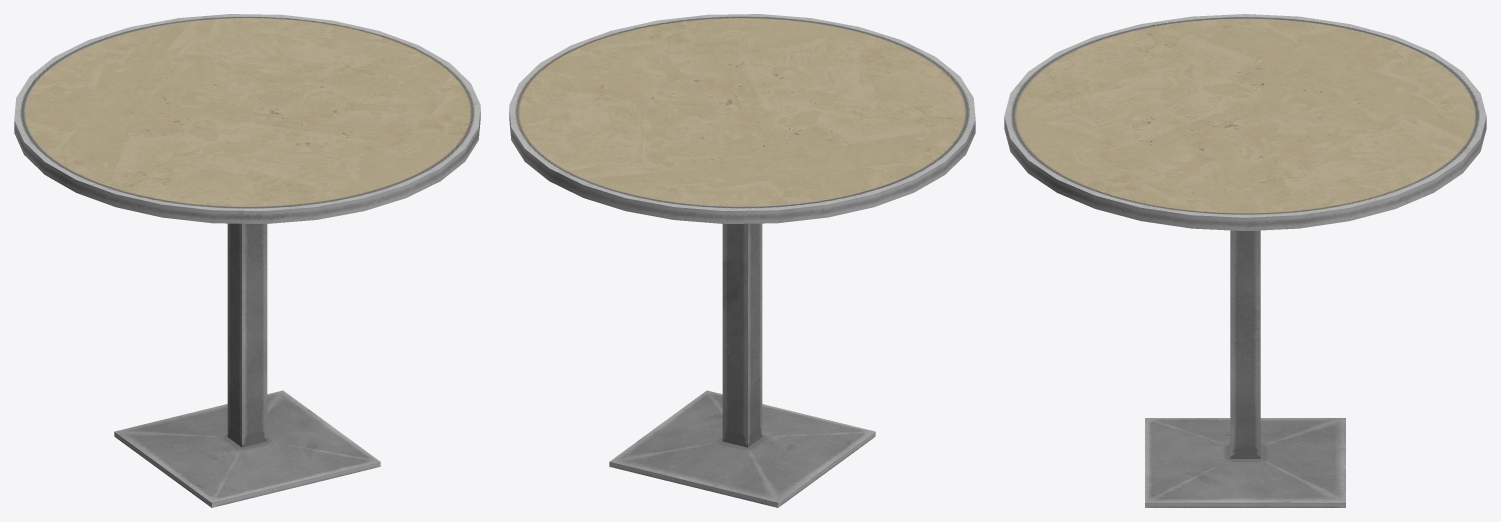
The model's file is MB_Cafe_Table_05.fbx.
3 views of the same model, side by side, from view 1: azimuth 30°, elevation 25°; view 2: azimuth 150°, elevation 25°; view 3: azimuth 270°, elevation 25° (orthographic). The views are drawn at different scales.
Parts seen in each view (by area): view 1: MB_Cafe_Table_05; view 2: MB_Cafe_Table_05; view 3: MB_Cafe_Table_05.
Boxes of the visible parts, x1,y1,x2,y2 form: MB_Cafe_Table_05: (14,14,480,507); MB_Cafe_Table_05: (509,14,975,507); MB_Cafe_Table_05: (1004,14,1486,507).
Bounding box in the file's own units: 101 × 80.59 × 101.
